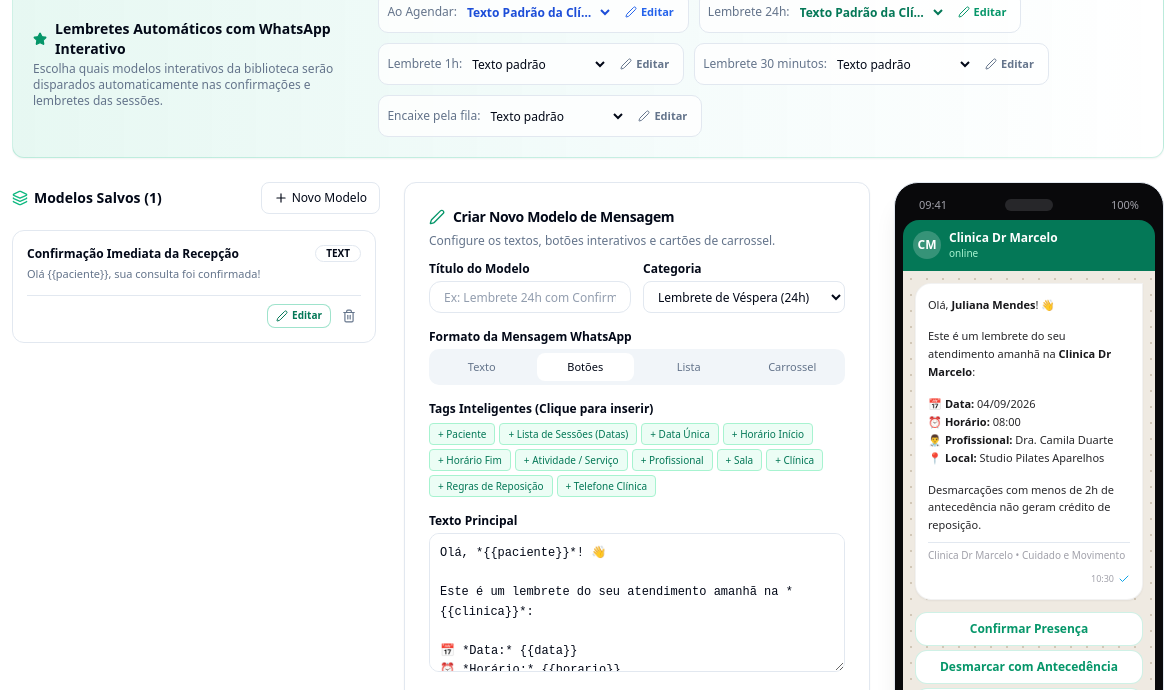
clicar no botão Editar do card carrega o modelo para edição
Click the button titled "Editar este modelo" below "Confirmação Imediata da Recepção" at (299, 316), box [267, 304, 331, 328]
(page scrolled)
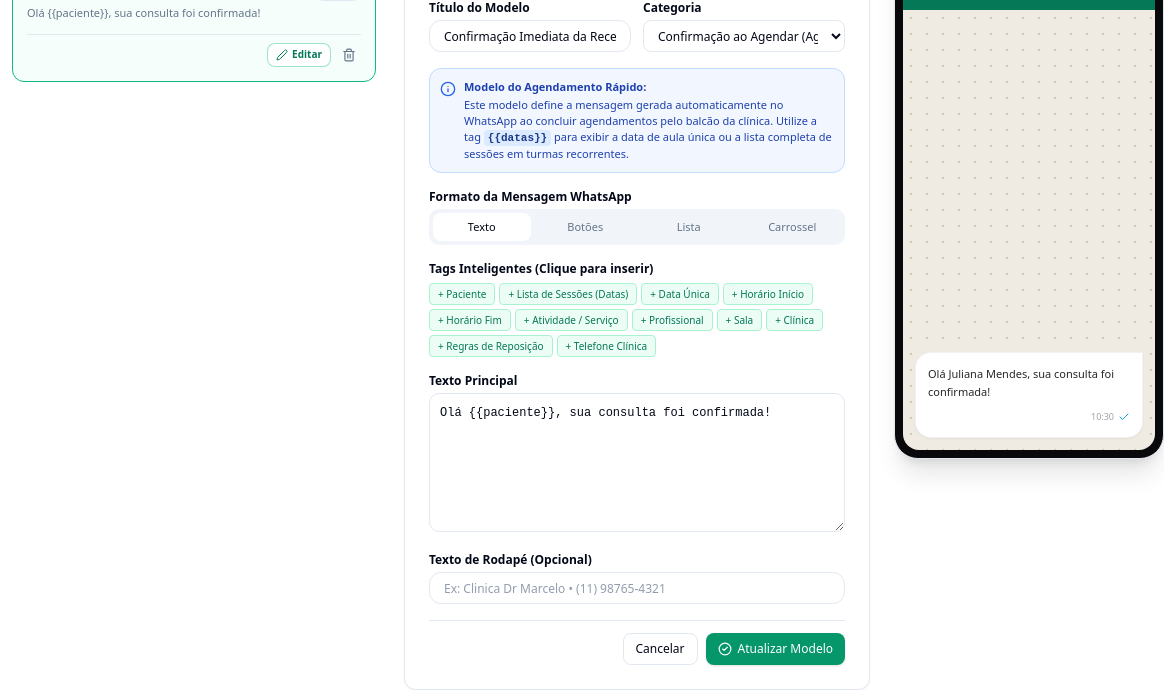
Expected: the text box is shown, [429, 393, 845, 532]
Expected: the field showing "Confirmação Imediata da Recepção" is shown, [429, 20, 631, 52]
